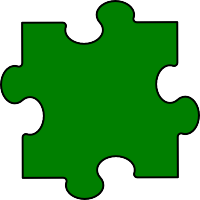puzzle piece: (1, 3, 200, 196)
